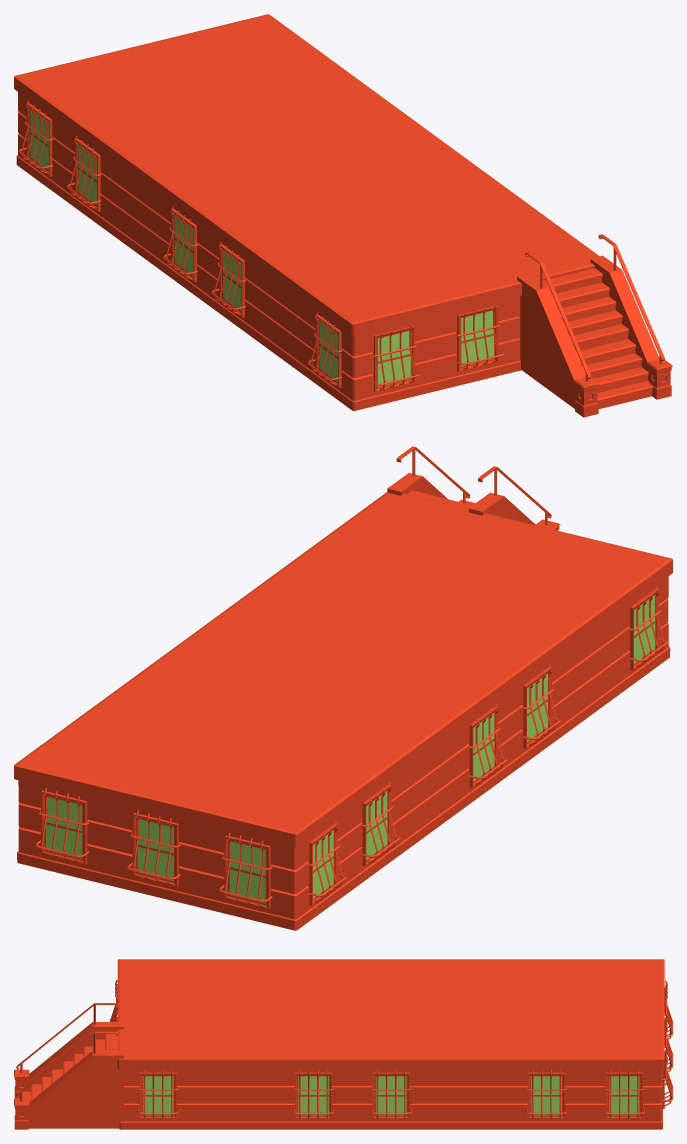
The model's file is SM_Squarehouse_Bottom_C_AS_City.fbx.
3 renders of one model, top to bottom at view 1: azimuth 30°, elevation 25°; view 2: azimuth 150°, elevation 25°; view 3: azimuth 270°, elevation 25°, orthographic. The views are drawn at different scales.
Parts seen in each view (by area): view 1: SM_Squarehouse_Bottom_C_AS_City; view 2: SM_Squarehouse_Bottom_C_AS_City; view 3: SM_Squarehouse_Bottom_C_AS_City.
Part boxes in pixels (left/top/right/bottom): SM_Squarehouse_Bottom_C_AS_City: left=14, top=14, right=672, bottom=417; SM_Squarehouse_Bottom_C_AS_City: left=14, top=446, right=672, bottom=930; SM_Squarehouse_Bottom_C_AS_City: left=14, top=959, right=672, bottom=1129.
Bounding box in the file's own units: 6.55 × 2.7 × 16.97.
